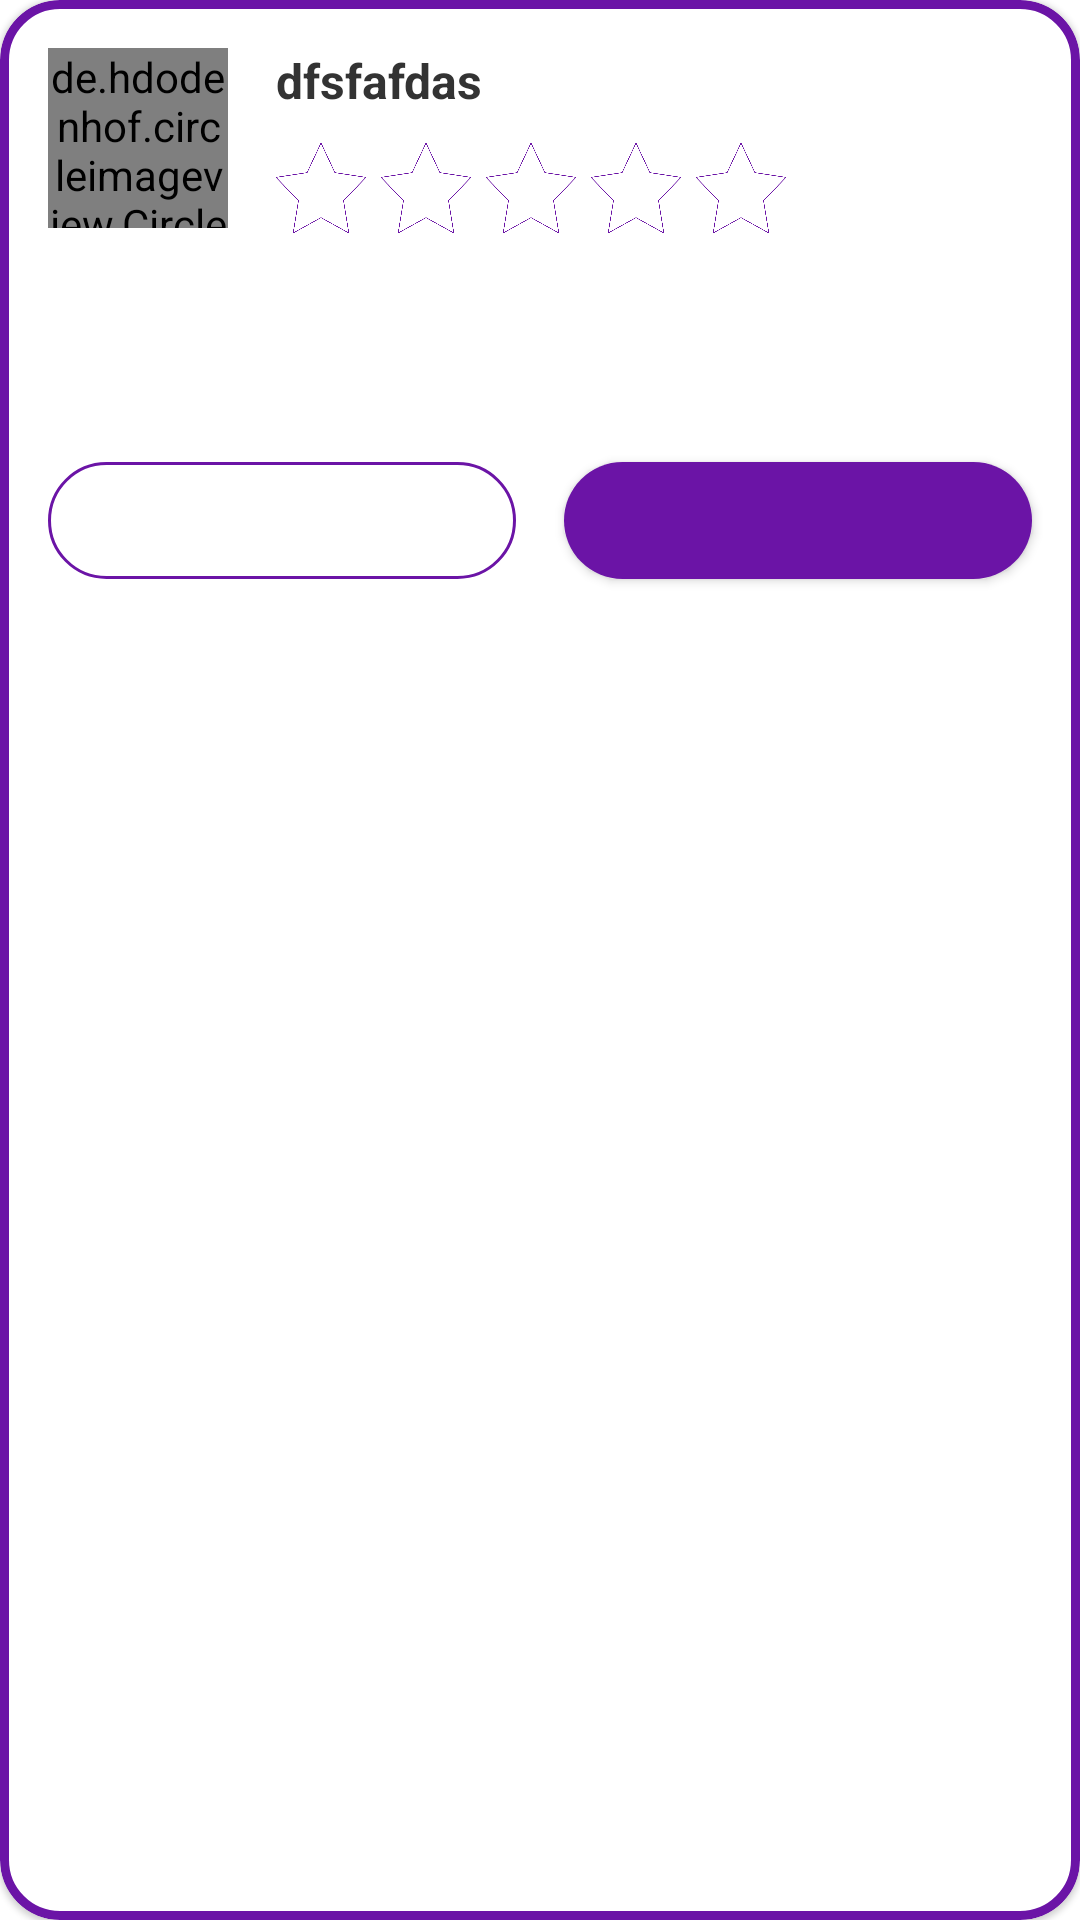

Screen size 1080 × 1920. Icon name, then its box in pixels as {"x1": x1, "y1": y1, "x2": x2, "y2": y2}:
empty star: {"x1": 276, "y1": 143, "x2": 366, "y2": 233}, {"x1": 381, "y1": 143, "x2": 471, "y2": 233}, {"x1": 486, "y1": 143, "x2": 576, "y2": 233}, {"x1": 591, "y1": 143, "x2": 681, "y2": 233}, {"x1": 696, "y1": 143, "x2": 786, "y2": 233}
